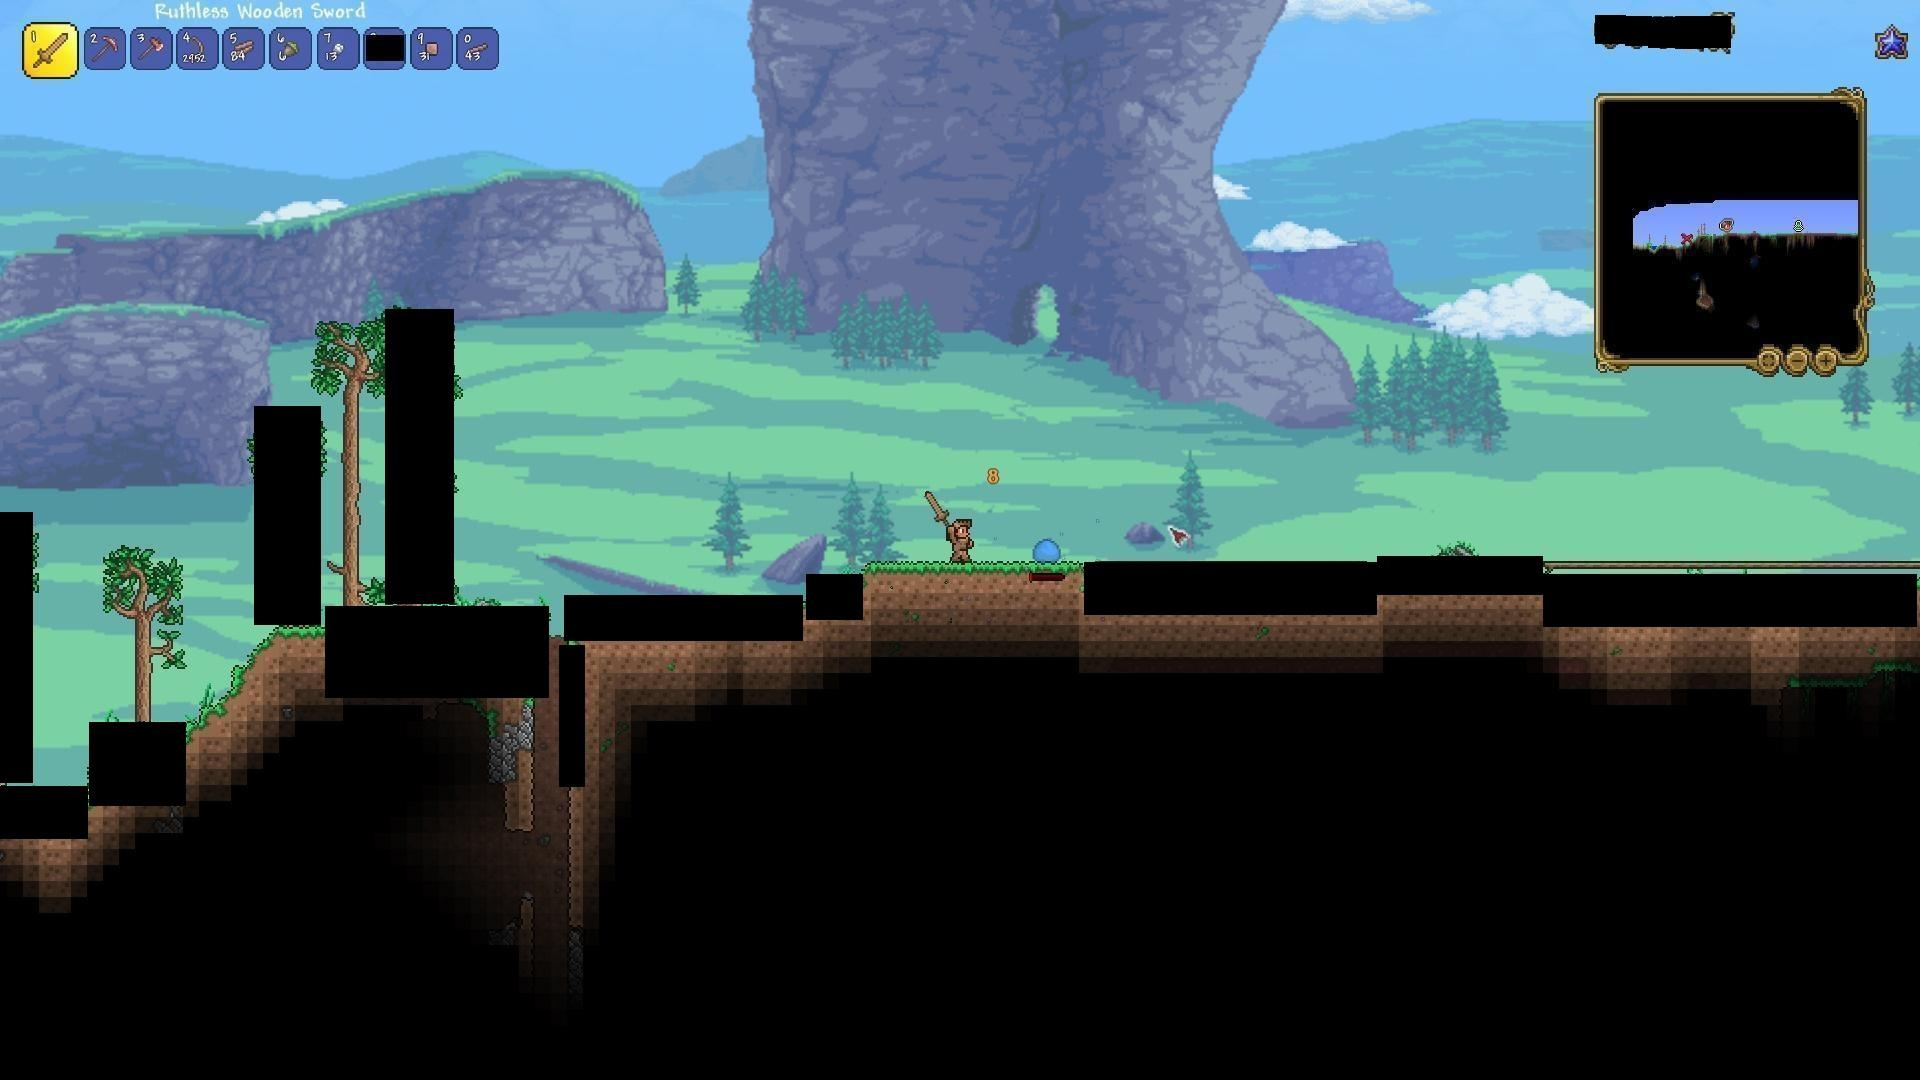dirt: (189, 626, 323, 742), (861, 556, 1083, 603)
slime: (1029, 534, 1064, 562)
tree: (318, 318, 375, 604), (112, 541, 171, 717)
wood: (227, 33, 258, 63)
